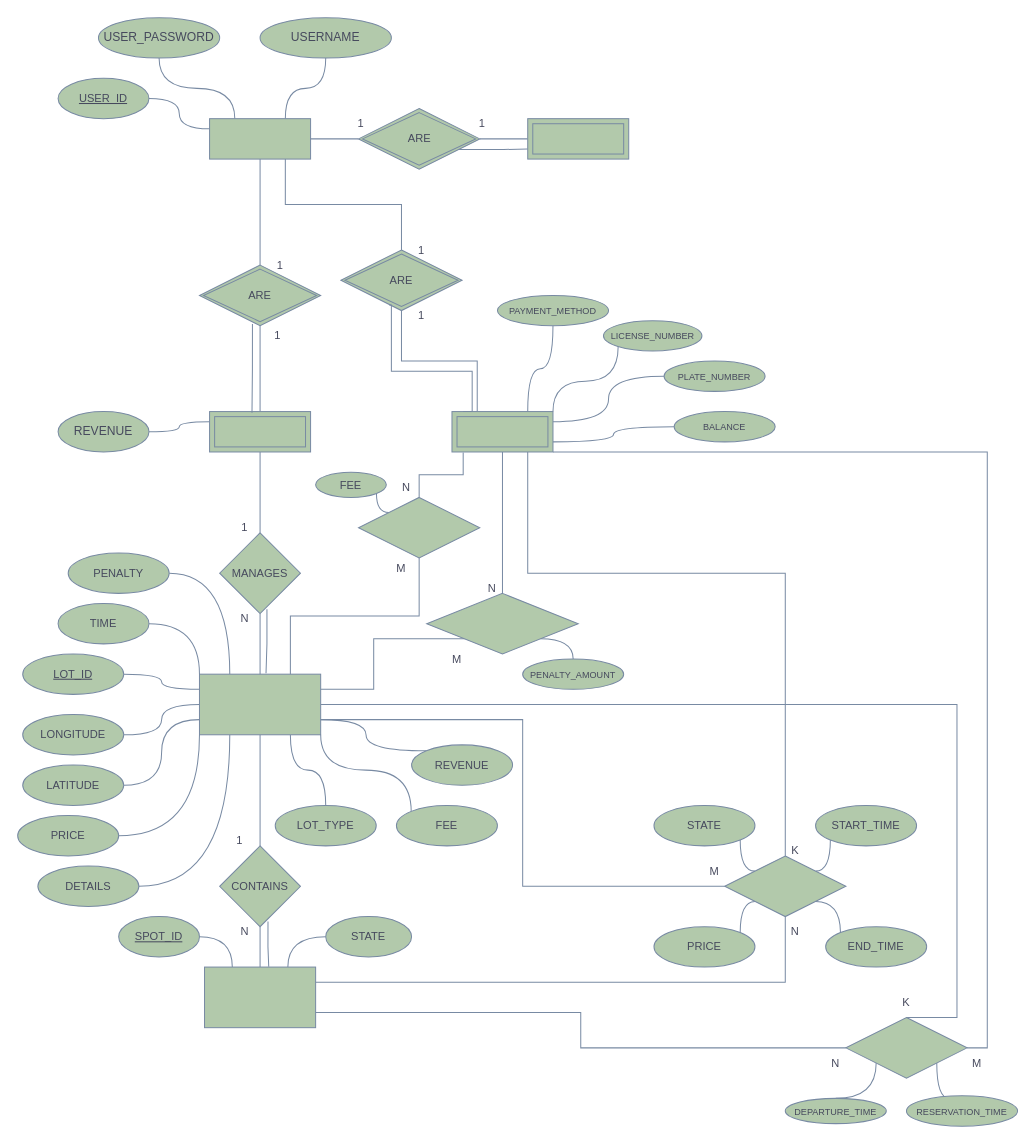
Image size: 1035x1144. Some labels were removed from this diagram. Here are the shapes that lost their labels. From the top down, the box of each, then its label:
(209, 118, 311, 159): USERS
(527, 118, 629, 159): ADMINS
(209, 411, 311, 452): LOT_MANAGER
(451, 411, 553, 452): DRIVER
(358, 496, 480, 558): OWE FEES TO
(426, 592, 578, 654): OWE PENALTIES TO
(198, 673, 321, 735): LOTS
(724, 855, 846, 917): RESERVE
(204, 966, 316, 1028): SPOTS
(845, 1017, 967, 1078): LOGS
